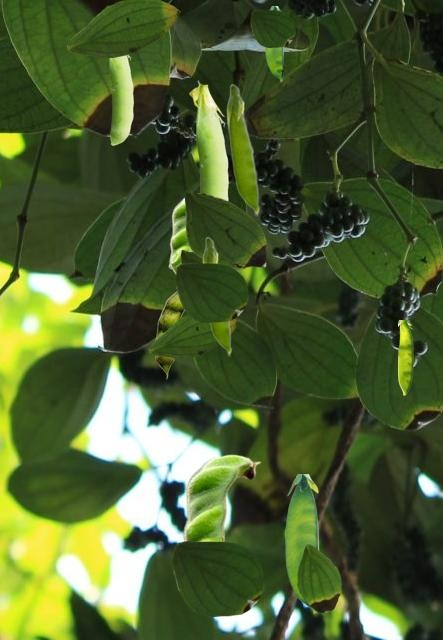pea: (180, 454, 260, 540), (285, 474, 318, 612), (189, 80, 227, 199), (226, 83, 259, 215), (202, 236, 231, 355), (155, 291, 184, 378), (108, 55, 132, 144), (168, 197, 190, 273), (265, 6, 282, 80), (398, 320, 412, 394)
